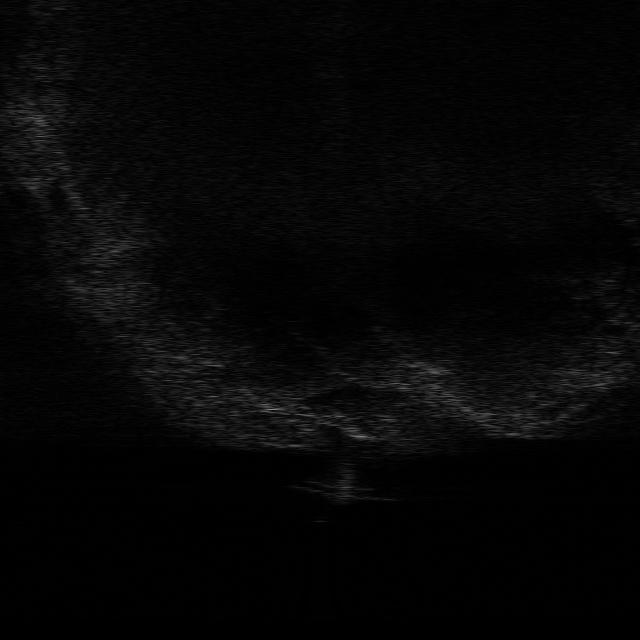plane: (291, 476, 400, 506)
